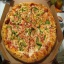pepper: (16, 41, 27, 52), (35, 38, 43, 48), (30, 6, 38, 14), (14, 11, 20, 19), (44, 20, 49, 27)
pizza: (1, 3, 56, 64)
